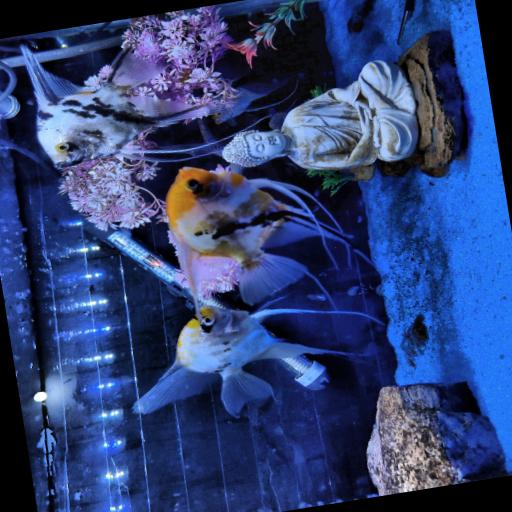Fish: (134, 305, 380, 415), (166, 166, 349, 304), (22, 45, 227, 167)
